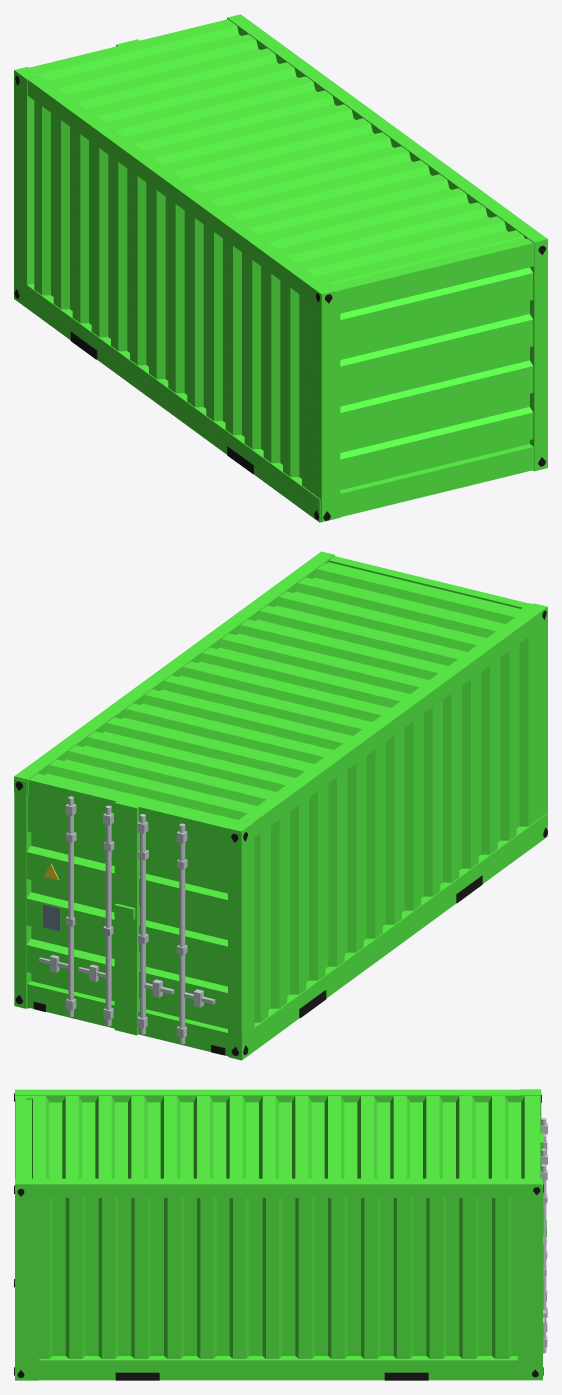
Rendered from 4Con.fbx.
3 renders of one model, top to bottom at view 1: azimuth 30°, elevation 25°; view 2: azimuth 150°, elevation 25°; view 3: azimuth 270°, elevation 25°, orthographic. The views are drawn at different scales.
Visible parts, largest first — view 1: Node; view 2: Node; view 3: Node.
Part boxes in pixels (left/top/right/bottom): Node: left=14, top=14, right=547, bottom=522; Node: left=14, top=551, right=547, bottom=1060; Node: left=14, top=1089, right=547, bottom=1380.
Bounding box in the file's own units: 134 × 128 × 316.
